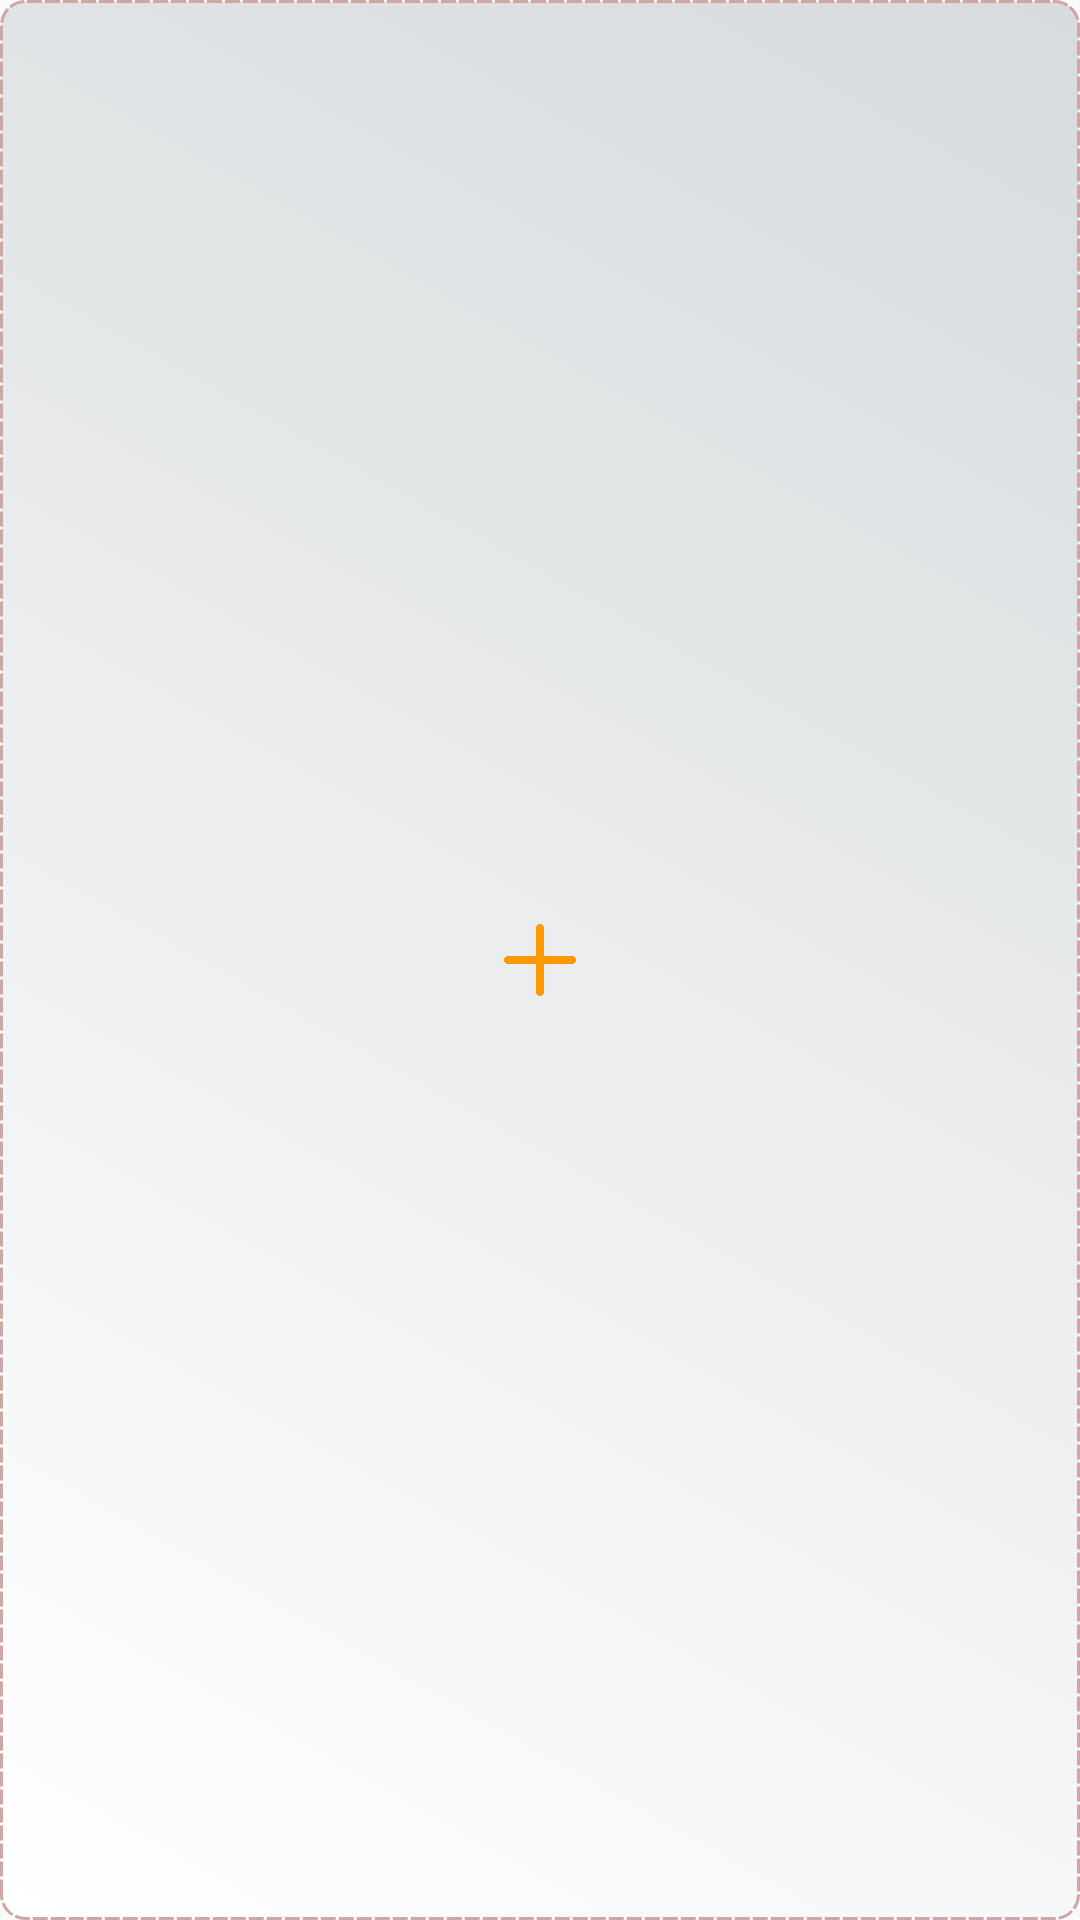

Icons on this 1080*1920 Android screen, each with the point to tap as (x=x, y=y):
plus: (x=540, y=960)
